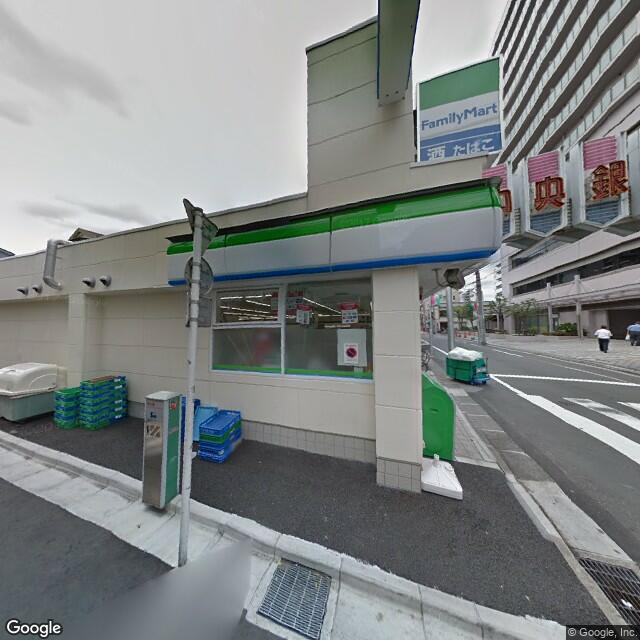family_mart: (170, 176, 506, 283), (416, 49, 503, 155)
